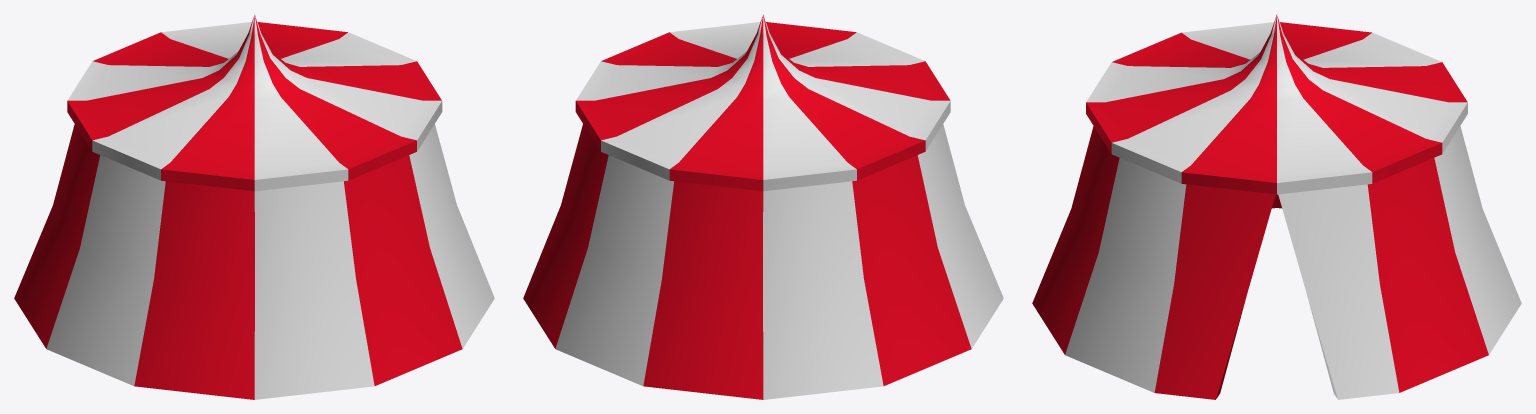
File: CarpaCirco.fbx
3 views of the same model, side by side, from view 1: azimuth 30°, elevation 25°; view 2: azimuth 150°, elevation 25°; view 3: azimuth 270°, elevation 25° (orthographic).
Visible parts, largest first — view 1: CarpaCirco; view 2: CarpaCirco; view 3: CarpaCirco.
Boxes of the visible parts, x1=… form: CarpaCirco: x1=14, y1=14, x2=494, y2=399; CarpaCirco: x1=523, y1=14, x2=1003, y2=399; CarpaCirco: x1=1032, y1=14, x2=1521, y2=399.
Size of the model in its own units: 9836 by 10177 by 6642.
